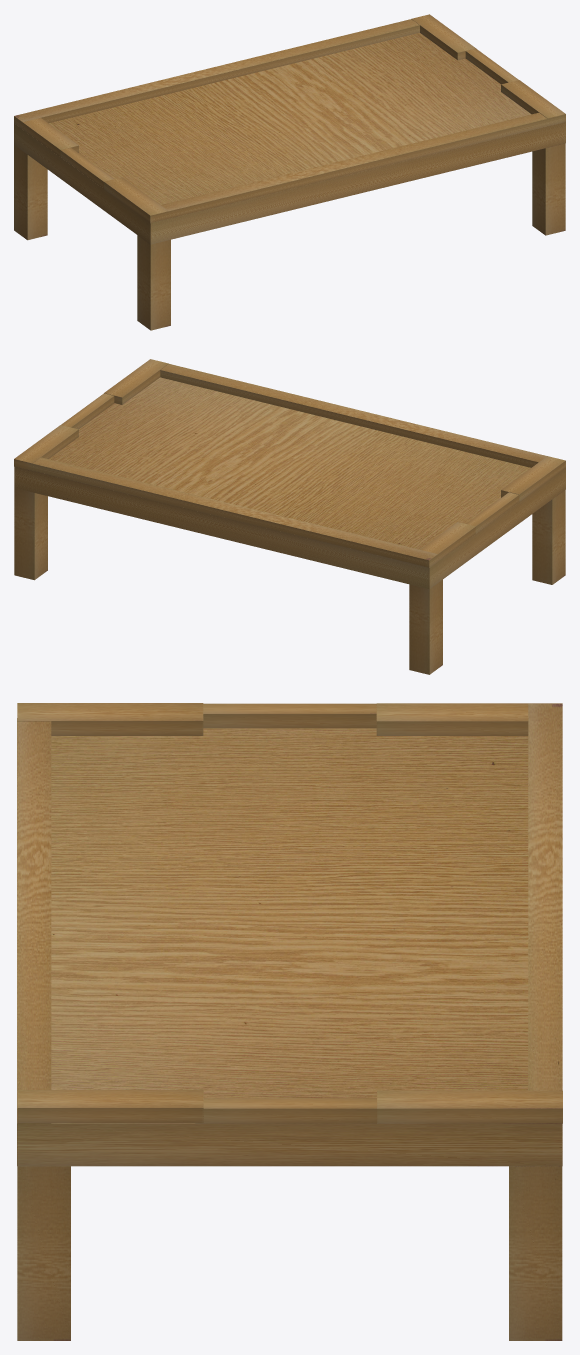
The model's file is Table.obj.
3 renders of one model, top to bottom at view 1: azimuth 30°, elevation 25°; view 2: azimuth 150°, elevation 25°; view 3: azimuth 270°, elevation 25°, orthographic. The views are drawn at different scales.
Visible parts, largest first — view 1: Table_Cube.002; view 2: Table_Cube.002; view 3: Table_Cube.002.
Part boxes in pixels (left/top/right/bottom): Table_Cube.002: left=14, top=14, right=565, bottom=330; Table_Cube.002: left=14, top=359, right=565, bottom=674; Table_Cube.002: left=17, top=703, right=562, bottom=1340.
Bounding box in the file's own units: 6.28 × 1.68 × 3.57.
